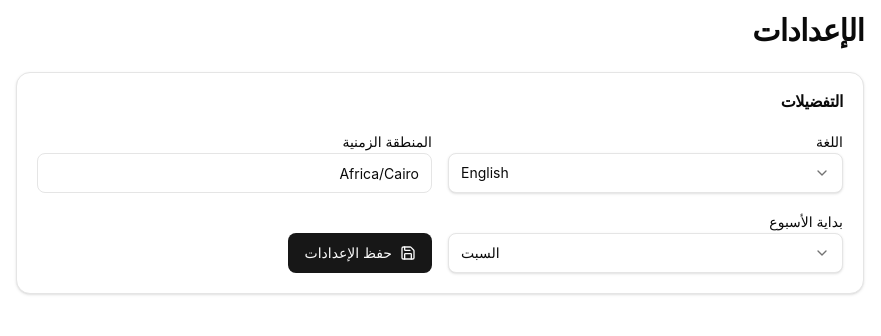
Test: localized validation feedback › shows a localized timezone error in ar and inherits page direction
Step 1. Replace the text in the field labelled "المنطقة الزمنية" with "Mars/Olympus" → (234, 173), box [37,153,432,193]
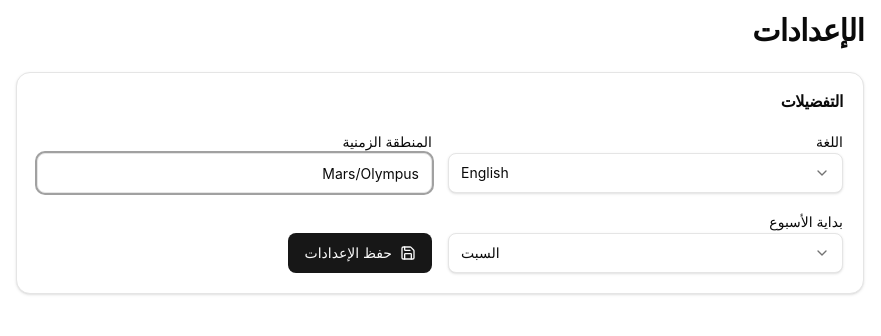
Step 2. Click the button "حفظ الإعدادات" → (360, 253), box [288,233,432,273]
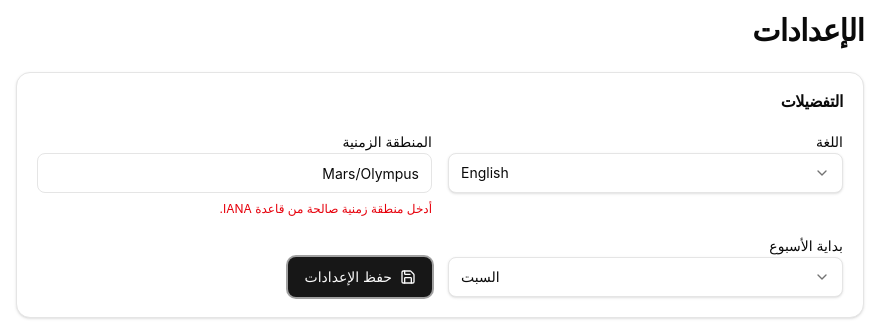
Expected: the text "أدخل منطقة زمنية صالحة من قاعدة IANA." is shown, [220,201,432,216]
